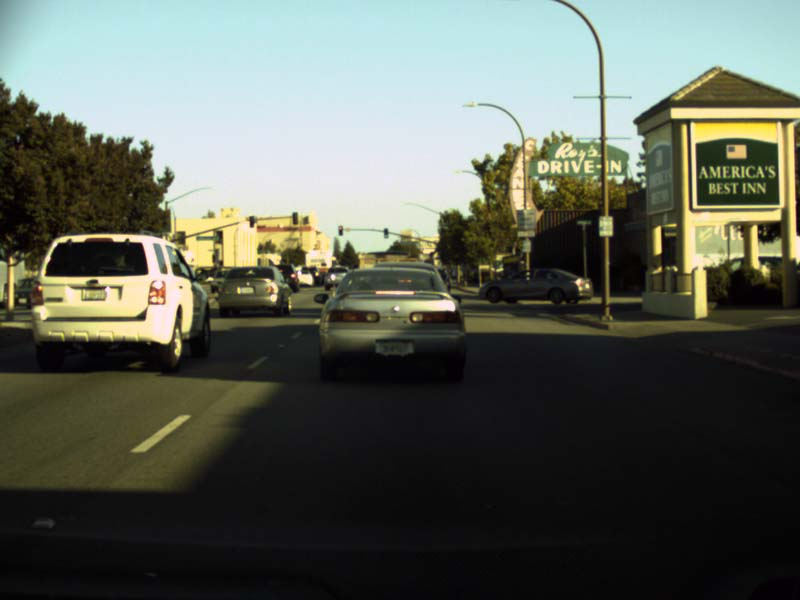Green: (383, 228, 388, 237)
Red: (337, 225, 343, 235)
